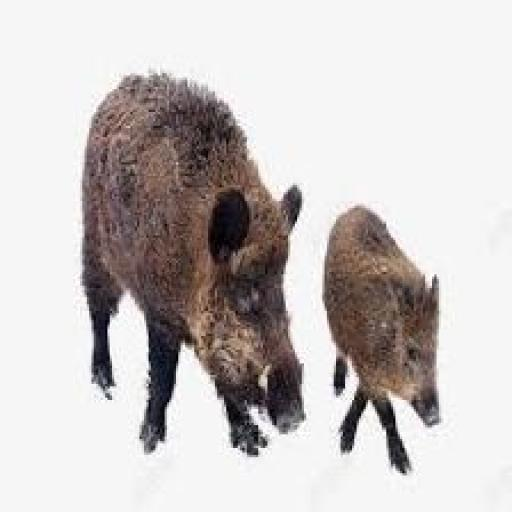Pig: (78, 64, 311, 463), (320, 196, 446, 478)
